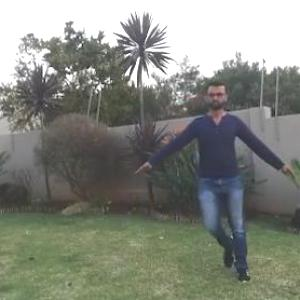land: (142, 89, 275, 252)
